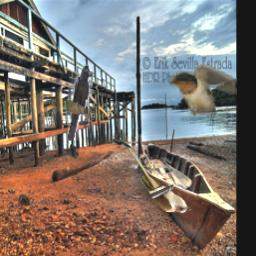Crow: (69, 66, 94, 142)
Cuckoo: (128, 147, 191, 214)
Swallow: (169, 65, 237, 116)
